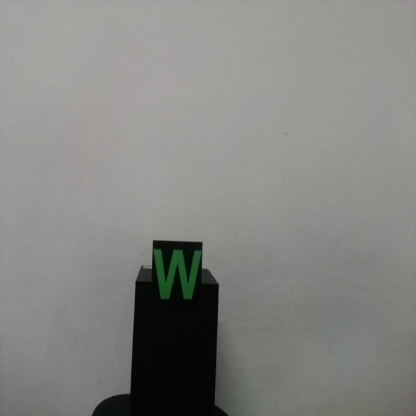id_12: (153, 240, 204, 313)
